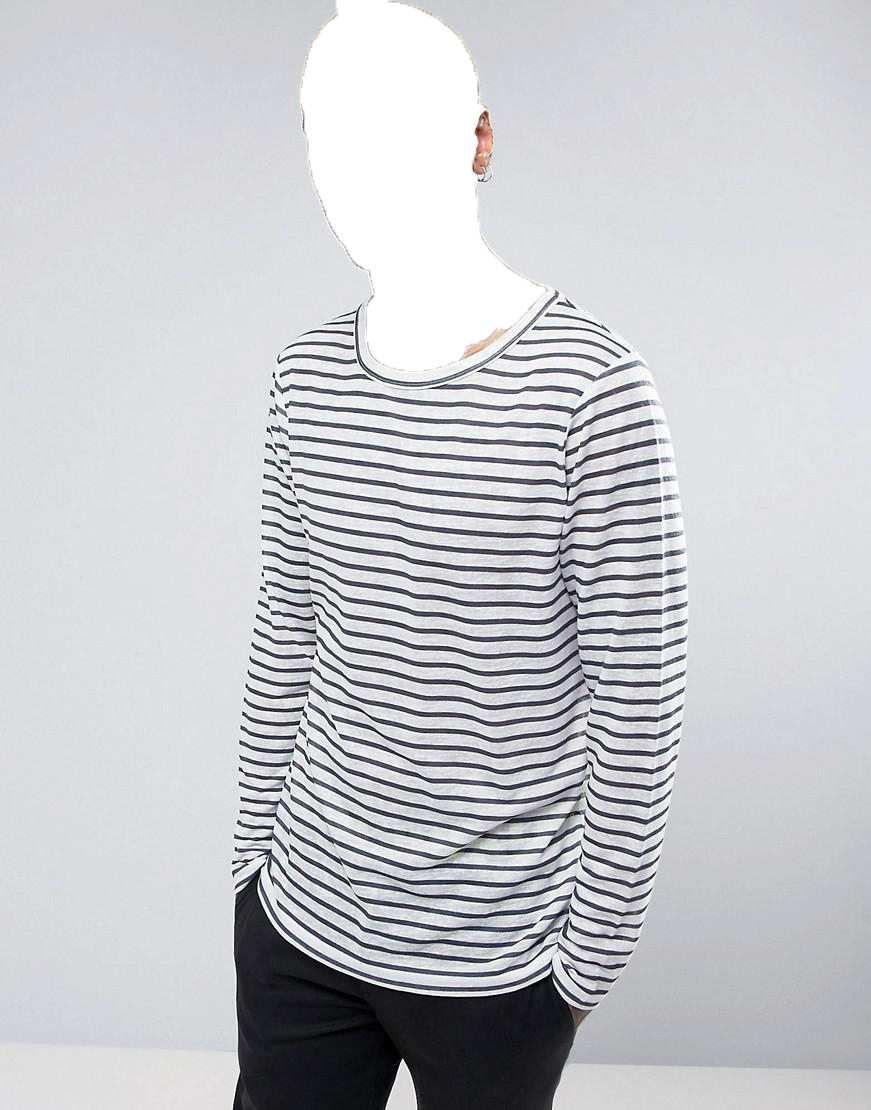teeshirt: (244, 285, 696, 1008)
